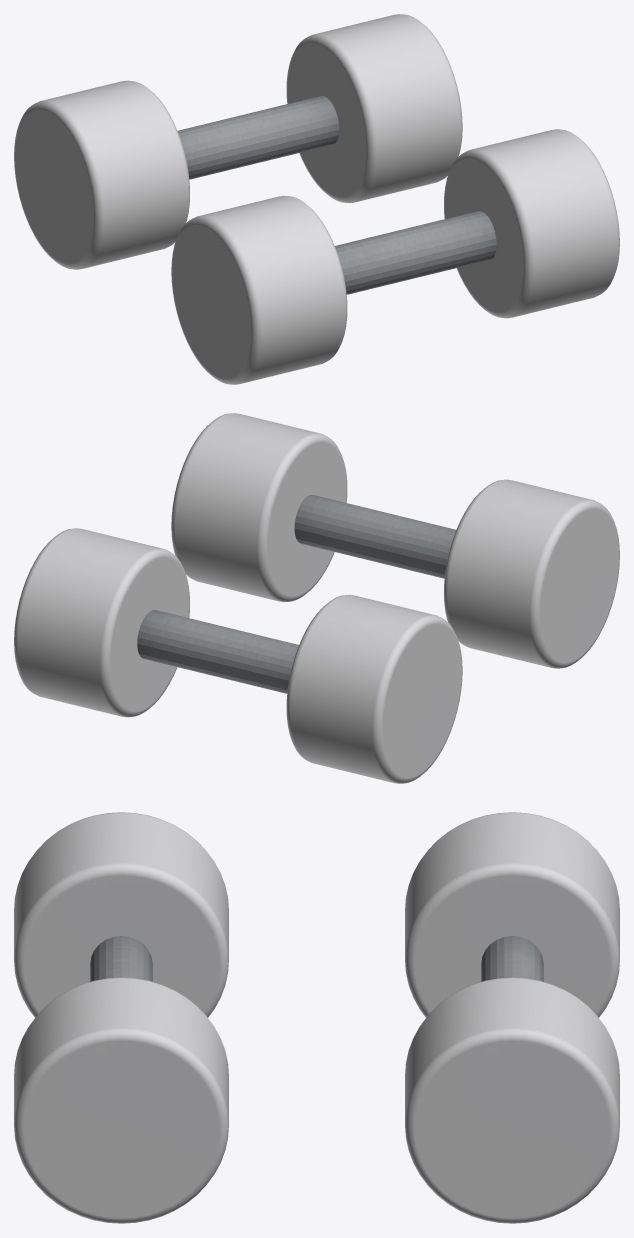
Rendered from chrome-pair.glb.
3 views of the same model, one above another, from view 1: azimuth 30°, elevation 25°; view 2: azimuth 150°, elevation 25°; view 3: azimuth 270°, elevation 25° (orthographic). The views are drawn at different scales.
Parts seen in each view (by area): view 1: chrome, knurled; view 2: chrome, knurled; view 3: chrome, knurled.
Boxes of the visible parts, bbox=[...] form: chrome: bbox=[14, 14, 619, 384]; knurled: bbox=[177, 96, 496, 294]; chrome: bbox=[14, 413, 619, 783]; knurled: bbox=[137, 495, 456, 693]; chrome: bbox=[14, 812, 619, 1223]; knurled: bbox=[90, 936, 543, 981].
Bounding box in the file's own units: 0.27 × 0.11 × 0.31.
2 materials, 1 textured.
